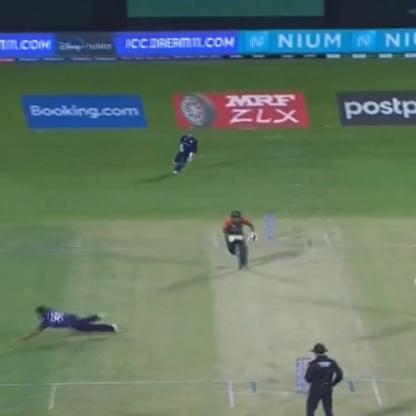ball: (12, 338, 31, 352)
pitch: (209, 214, 384, 412)
